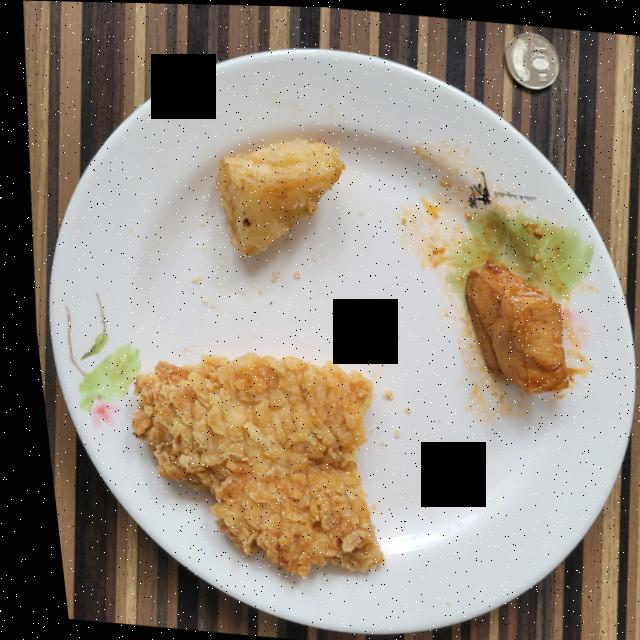coin: (503, 30, 557, 87)
creamy tofu: (457, 258, 558, 391)
fried chicken cutlet: (121, 352, 369, 575)
fried potato: (211, 137, 339, 256)
